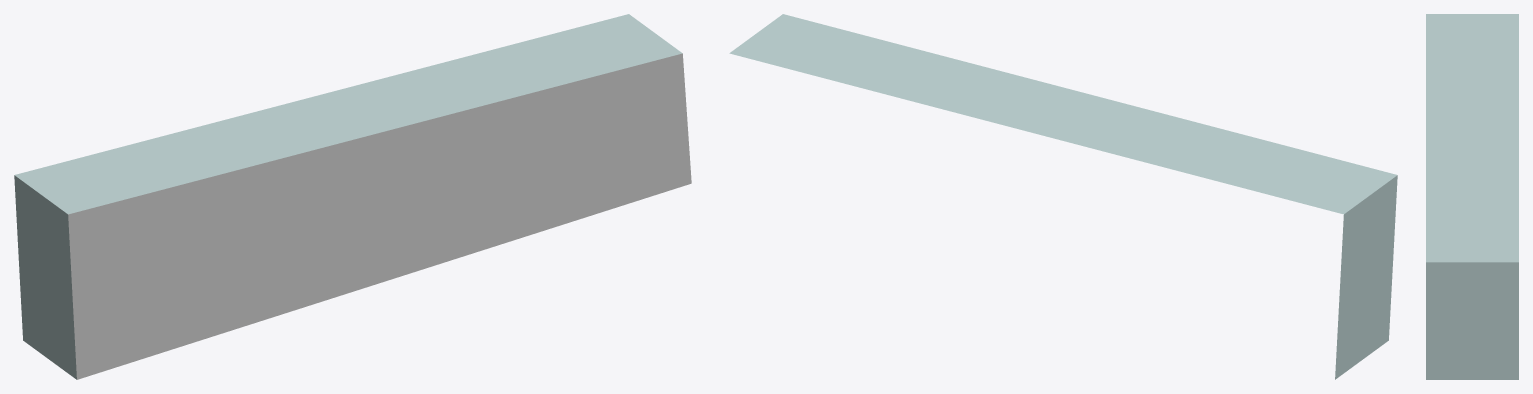
The picture shows the model from 3 angles, left to right: view 1: azimuth 30°, elevation 25°; view 2: azimuth 150°, elevation 25°; view 3: azimuth 270°, elevation 25°; orthographic projection. The views are drawn at different scales.
Visible parts, largest first — view 1: 0_3_2_1_2_3_3_2_1; view 2: 0_3_2_1_2_3_3_2_1; view 3: 0_3_2_1_2_3_3_2_1.
Part boxes in pixels (bbox=[...]): 0_3_2_1_2_3_3_2_1: bbox=[14, 14, 691, 379]; 0_3_2_1_2_3_3_2_1: bbox=[729, 14, 1397, 379]; 0_3_2_1_2_3_3_2_1: bbox=[1426, 14, 1518, 379].
Bounding box in the file's own units: 20.05 × 5.49 × 3.
